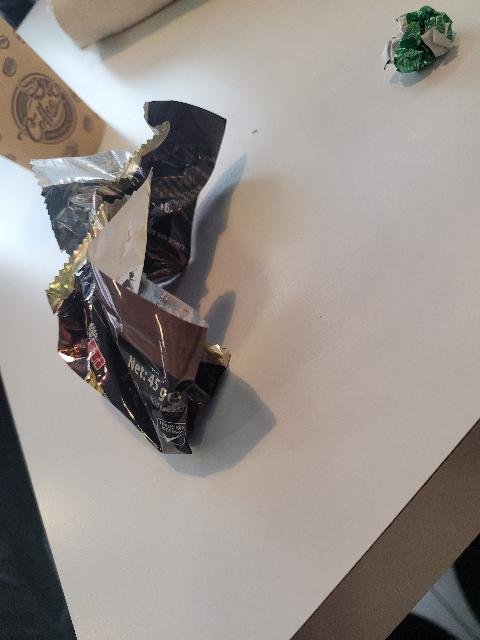Kagit: (0, 14, 111, 181), (382, 5, 462, 89)
Plastik: (46, 102, 241, 458)
